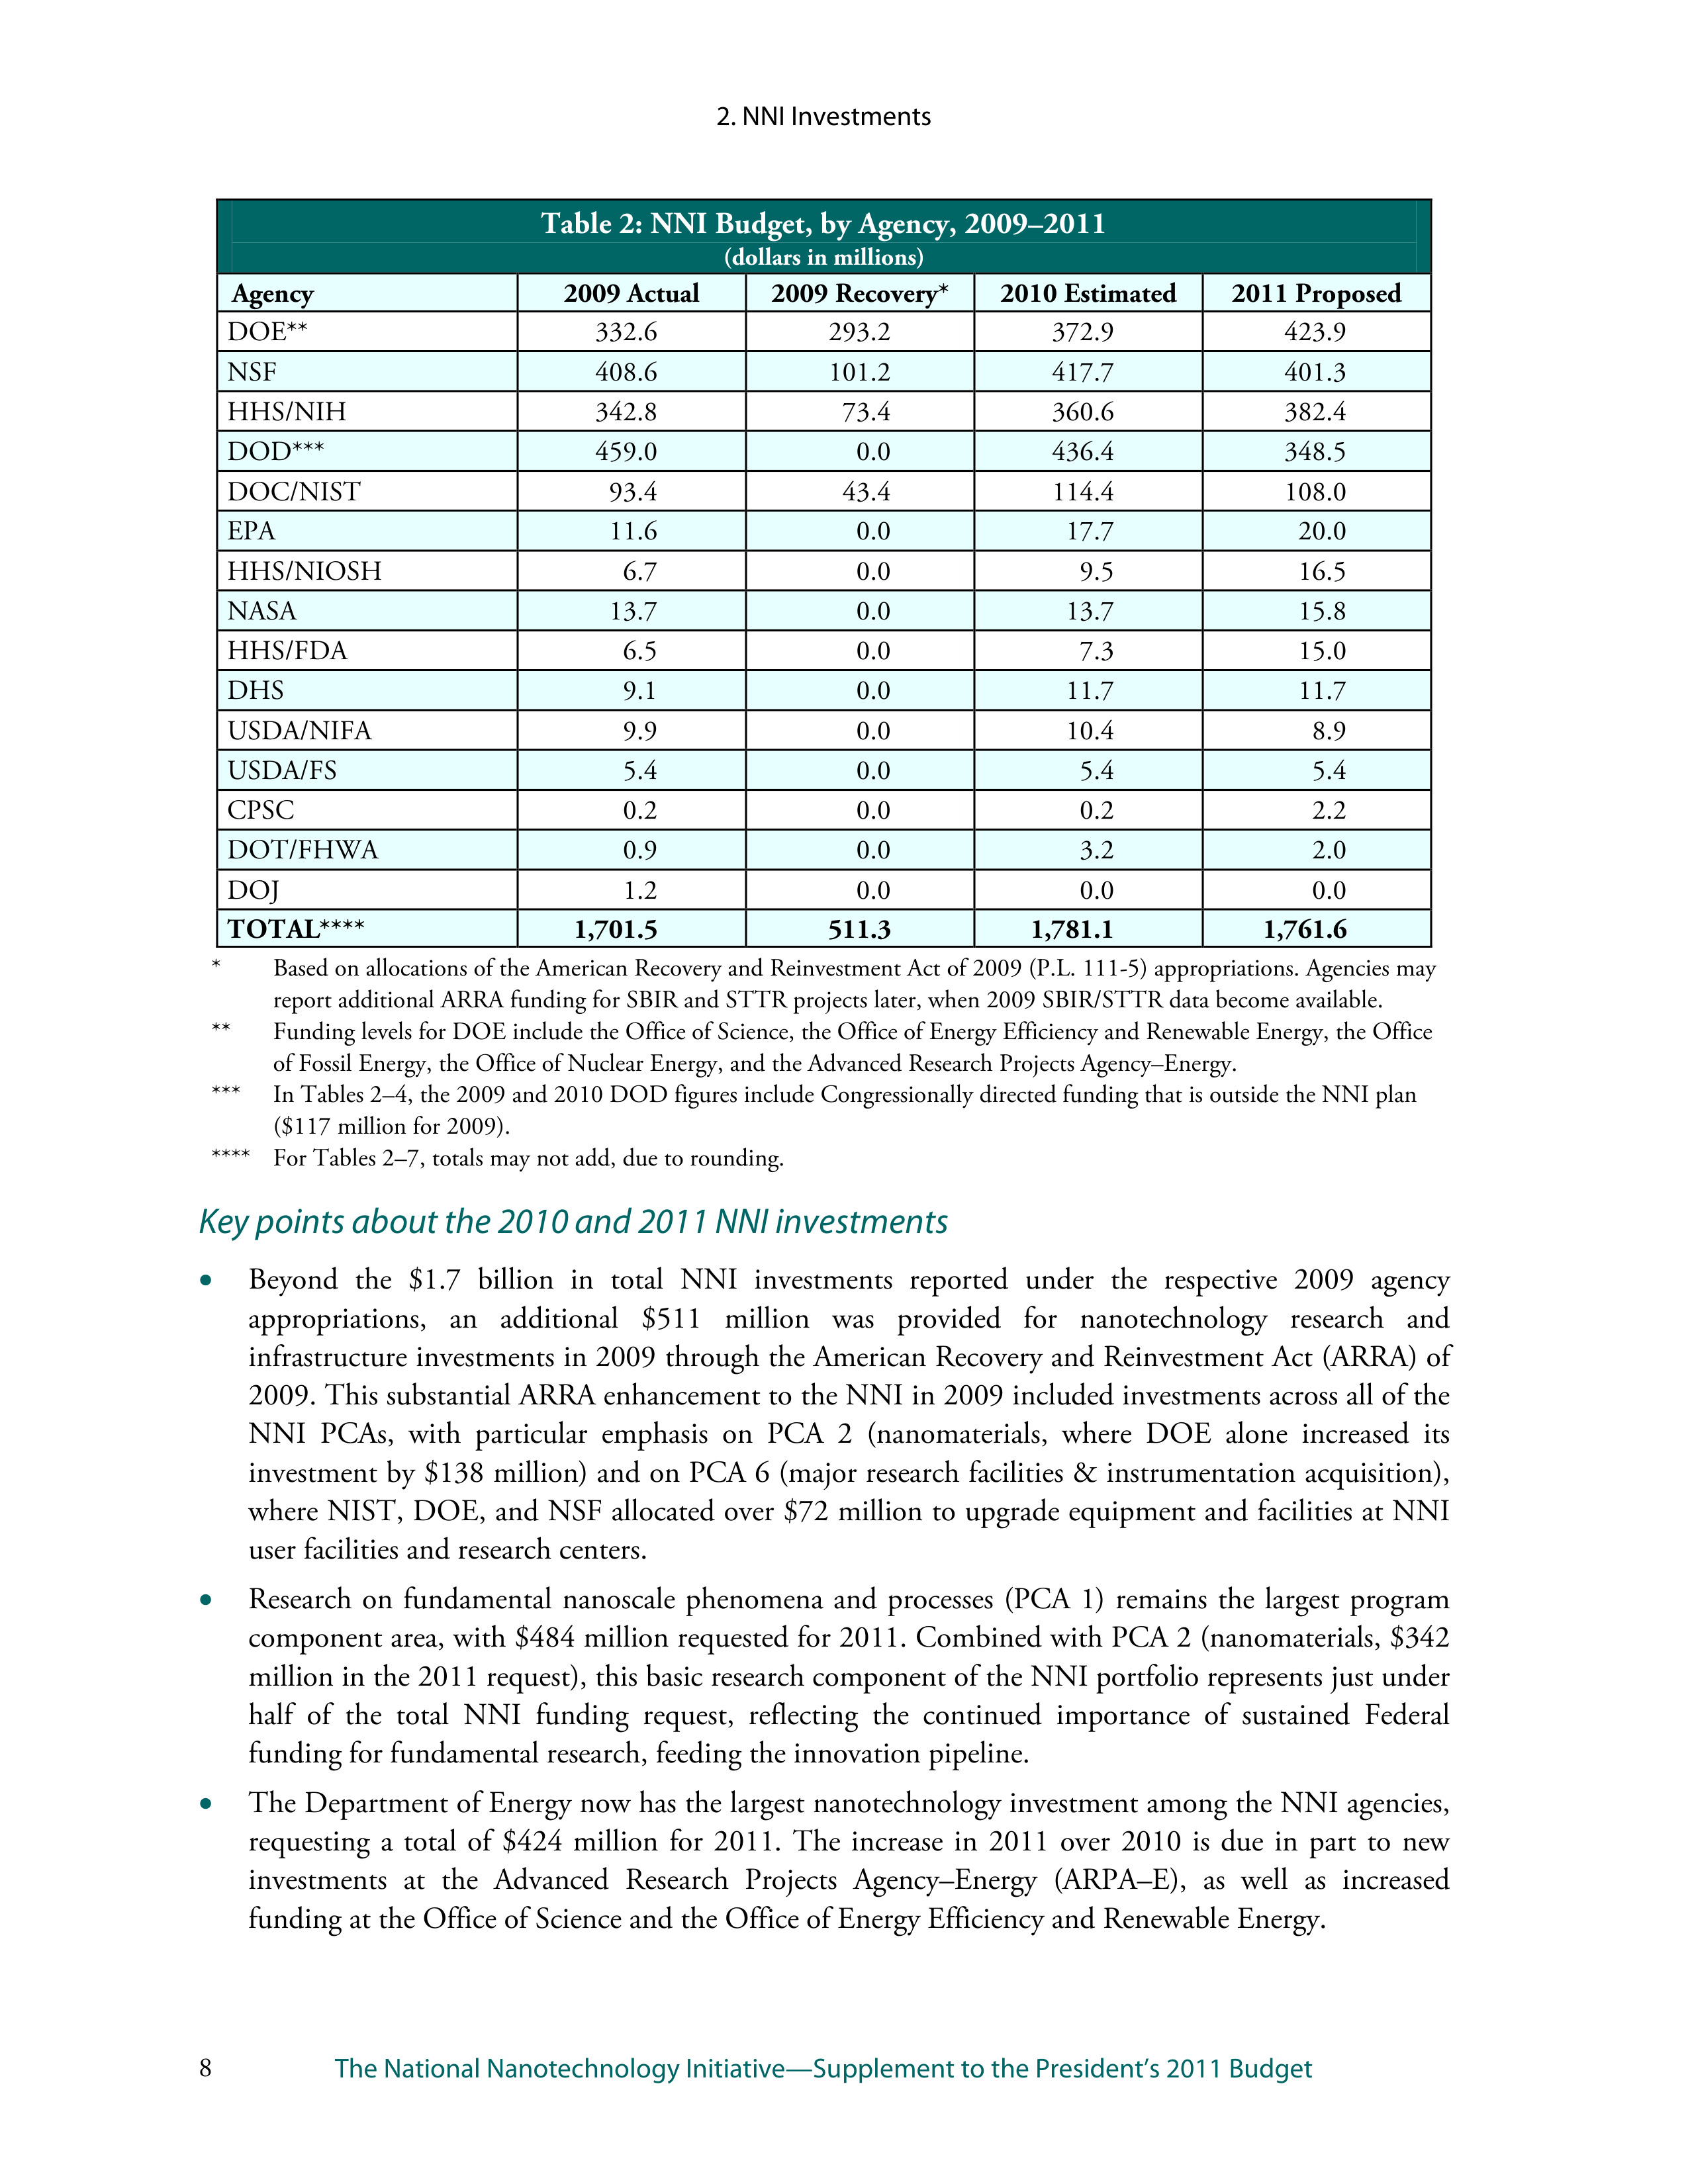table: (227, 282, 1401, 945)
